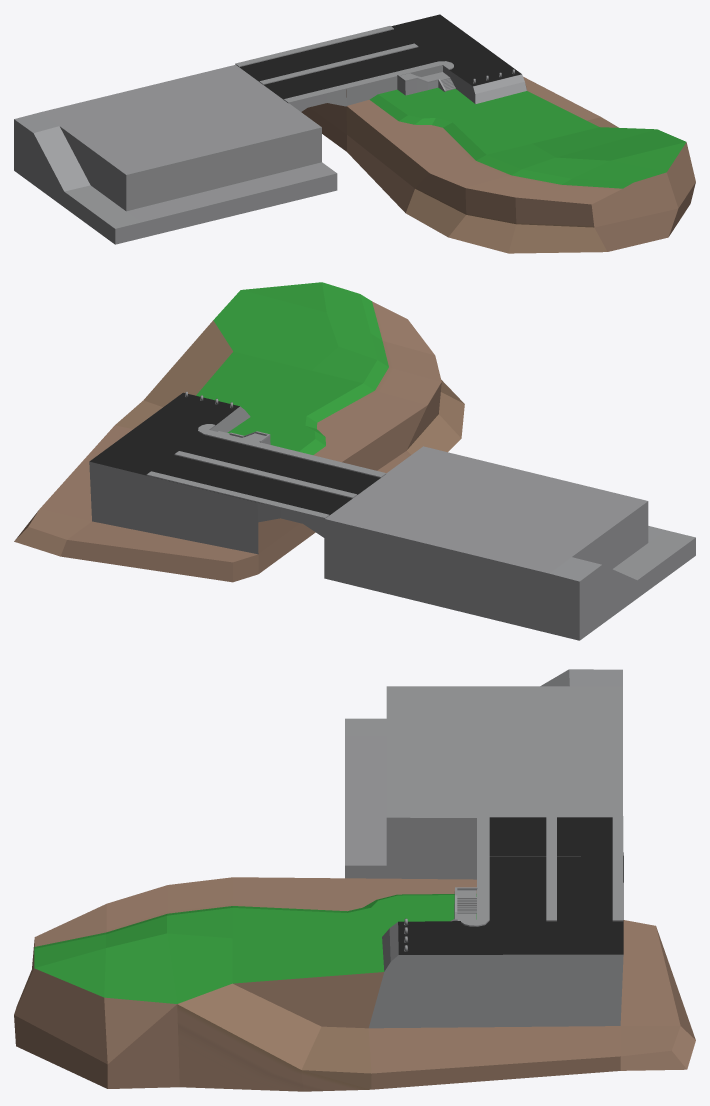
Rendered from apocalipse_scenario.glb.
3 views of the same model, one above another, from view 1: azimuth 30°, elevation 25°; view 2: azimuth 150°, elevation 25°; view 3: azimuth 270°, elevation 25° (orthographic). The views are drawn at different scales.
Parts seen in each view (by area): view 1: Cube.001; view 2: Cube.001; view 3: Cube.001.
Boxes of the visible parts, box(x1,y1,x2,y2) form: Cube.001: box(14, 14, 695, 253); Cube.001: box(14, 282, 695, 640); Cube.001: box(14, 669, 695, 1091).
Bounding box in the file's own units: 261 × 35.88 × 226.
4 materials, 1 textured.
